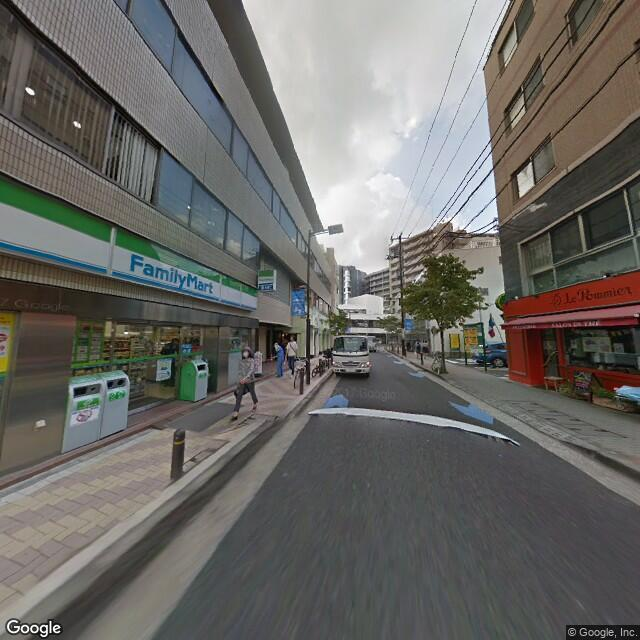family_mart: (2, 174, 258, 315), (124, 247, 214, 305), (254, 267, 276, 293)
